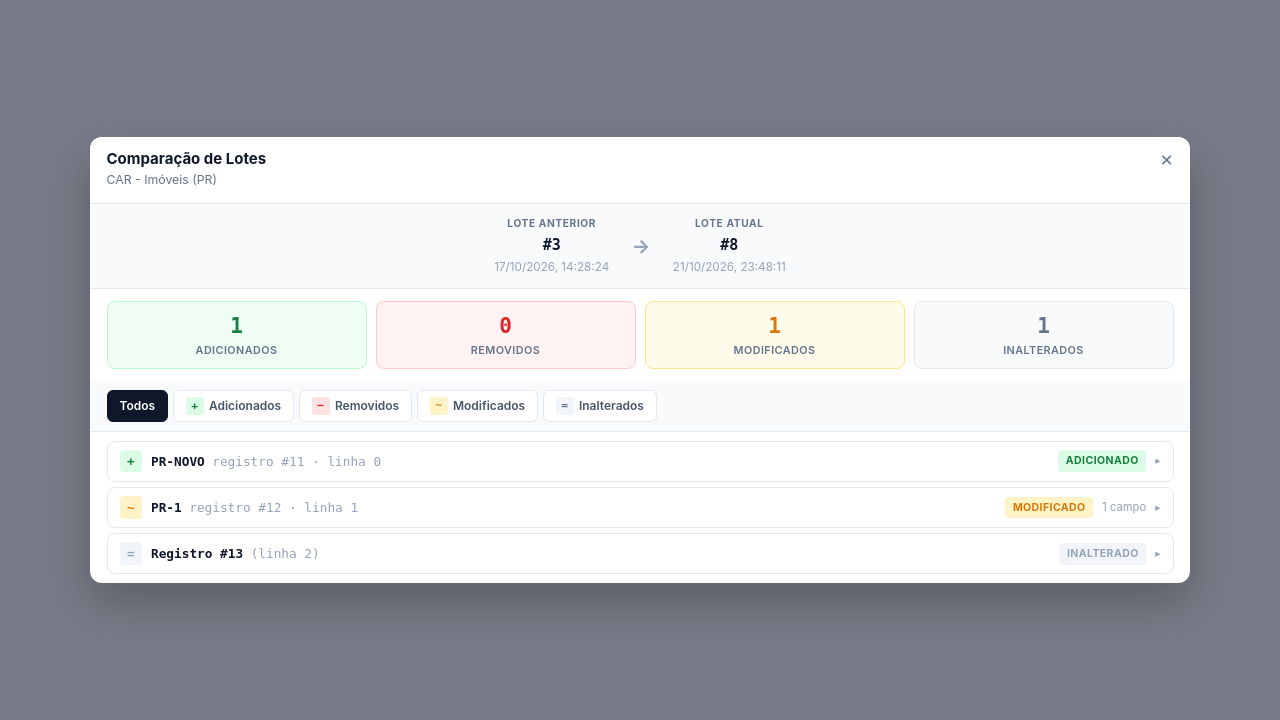
Scenario: ModalComparacaoLotes (LIZARDS-30) › abrir um modificado mostra o campo com o valor anterior e o atual
What coordinates should you click on to do the following:
click the element with class "cabecalho-item" that starts with "PR-1"
I would click on:
 (166, 507)
Its box is [120, 496, 1160, 519].
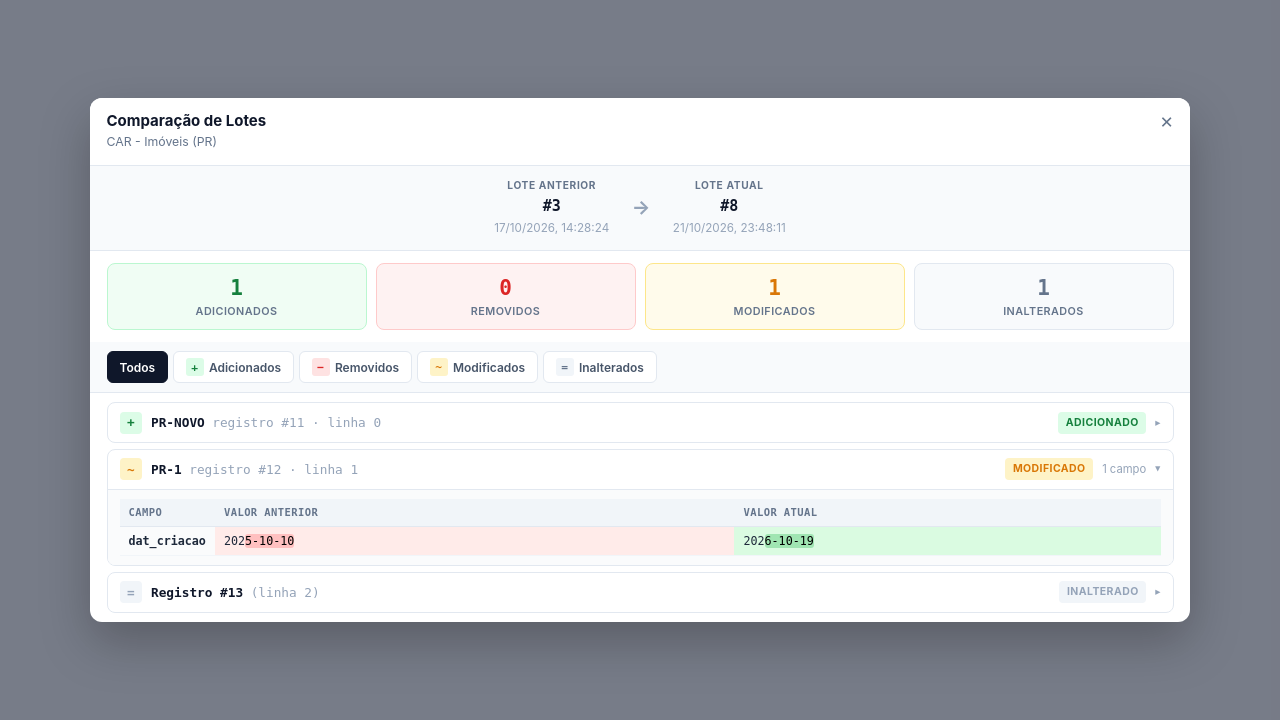
Expected: the table with class "tabela-diff-campos" shows "dat_criacao", [128, 534, 206, 548]
Expected: the table with class "tabela-diff-campos" shows "2025-10-10", [120, 499, 1160, 556]
Expected: the table with class "tabela-diff-campos" shows "2026-10-19", [120, 499, 1160, 556]
